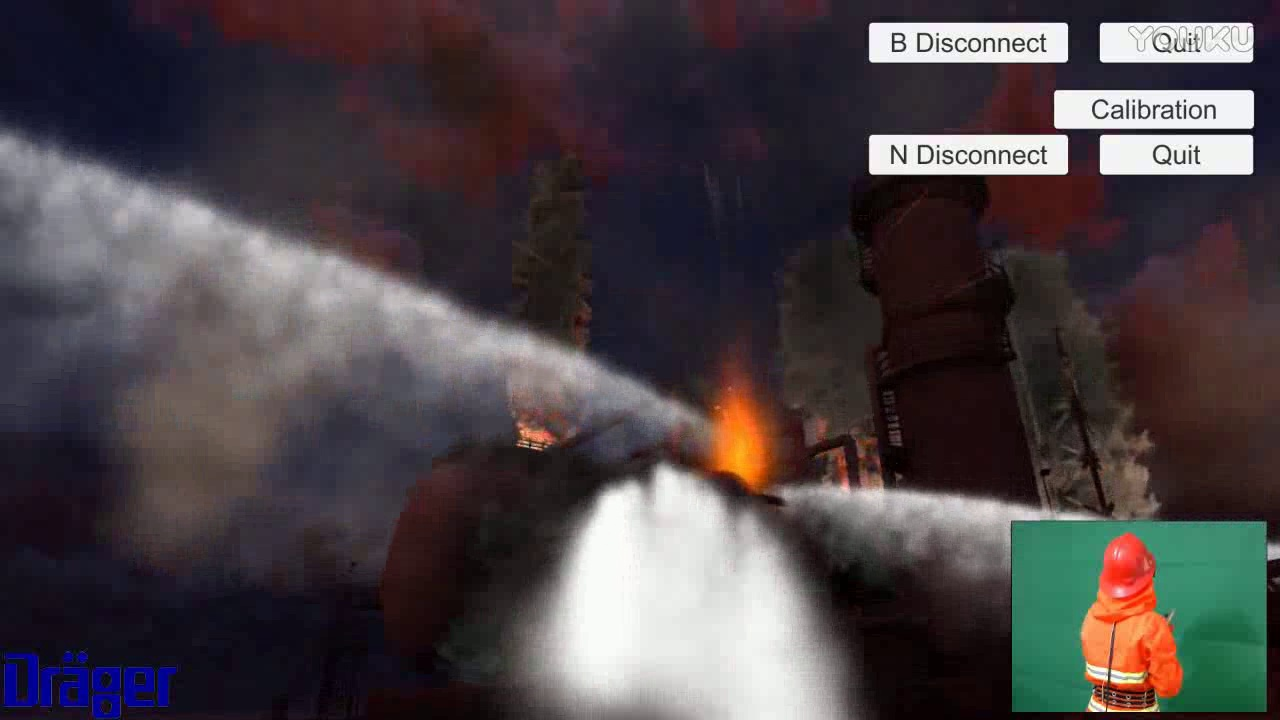fire: (698, 357, 774, 496)
